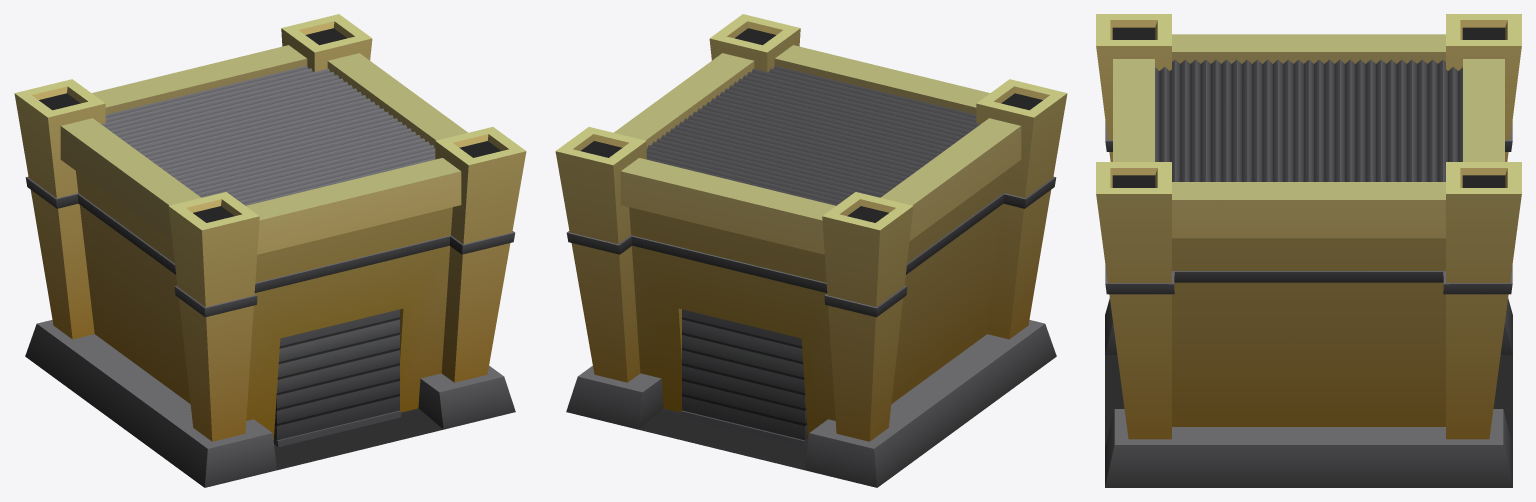
The picture shows the model from 3 angles, left to right: view 1: azimuth 30°, elevation 25°; view 2: azimuth 150°, elevation 25°; view 3: azimuth 270°, elevation 25°; orthographic projection. The views are drawn at different scales.
Parts seen in each view (by area): view 1: Base, FrontDoor; view 2: Base, BackDoor; view 3: Base.
Boxes of the visible parts, box(x1,y1,x2,y2) form: Base: box(14, 14, 526, 487); FrontDoor: box(273, 309, 401, 447); Base: box(555, 14, 1067, 487); BackDoor: box(680, 309, 808, 447); Base: box(1096, 14, 1521, 487).
Size of the model in its own units: 596 by 460 by 596.
